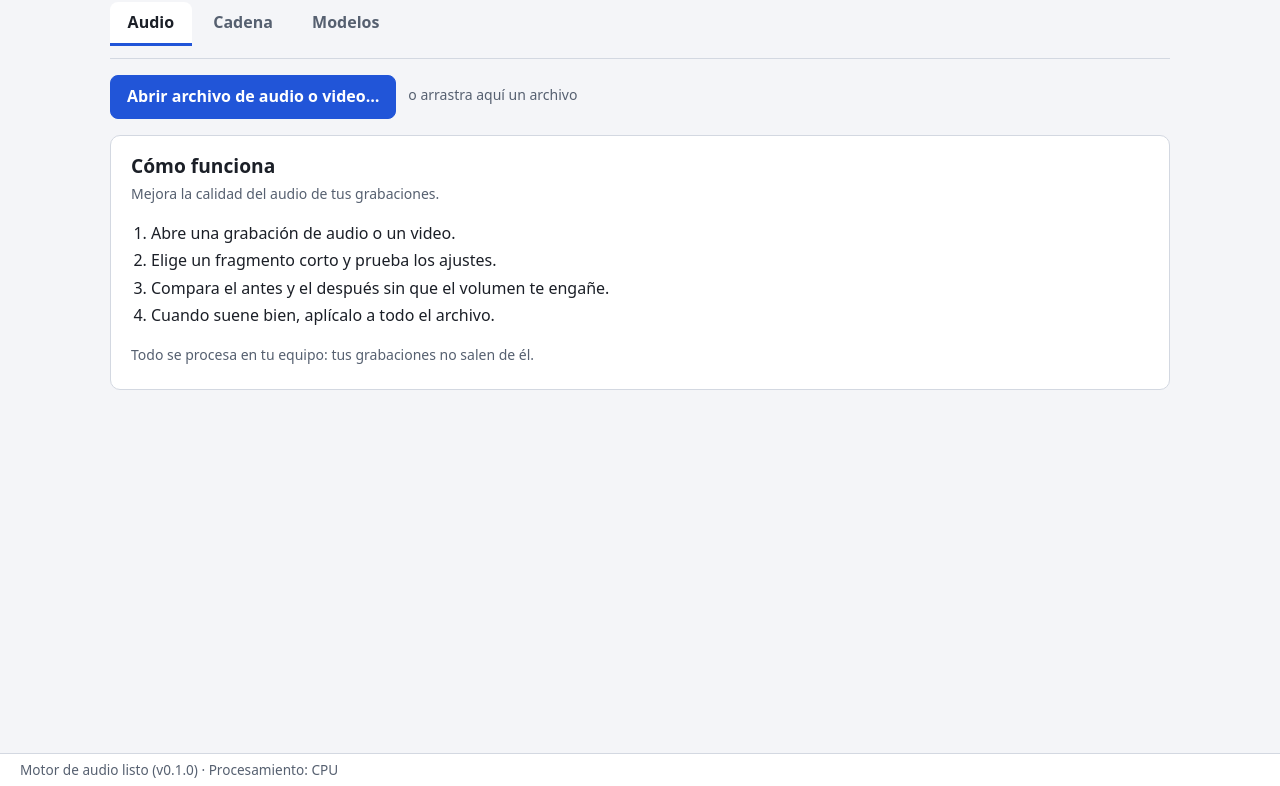
Test: App › un archivo soltado mientras hay un trabajo en curso se ignora
Click the button "Abrir archivo de audio o video…" at (253, 97), box [110, 75, 396, 119]
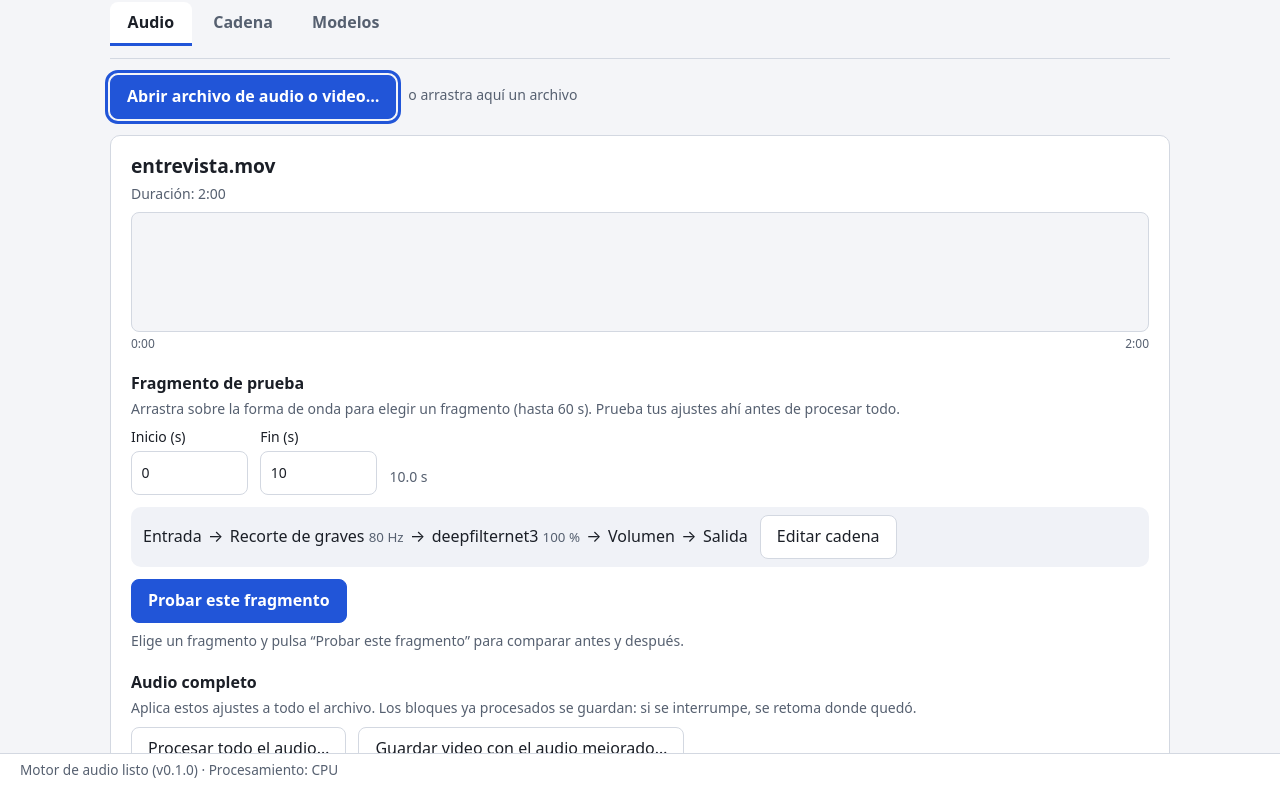
Expected: the heading "entrevista.mov" is shown, [131, 152, 276, 179]
Click the button "Procesar todo el audio…" at (239, 749), box [131, 727, 346, 771]
(page scrolled)
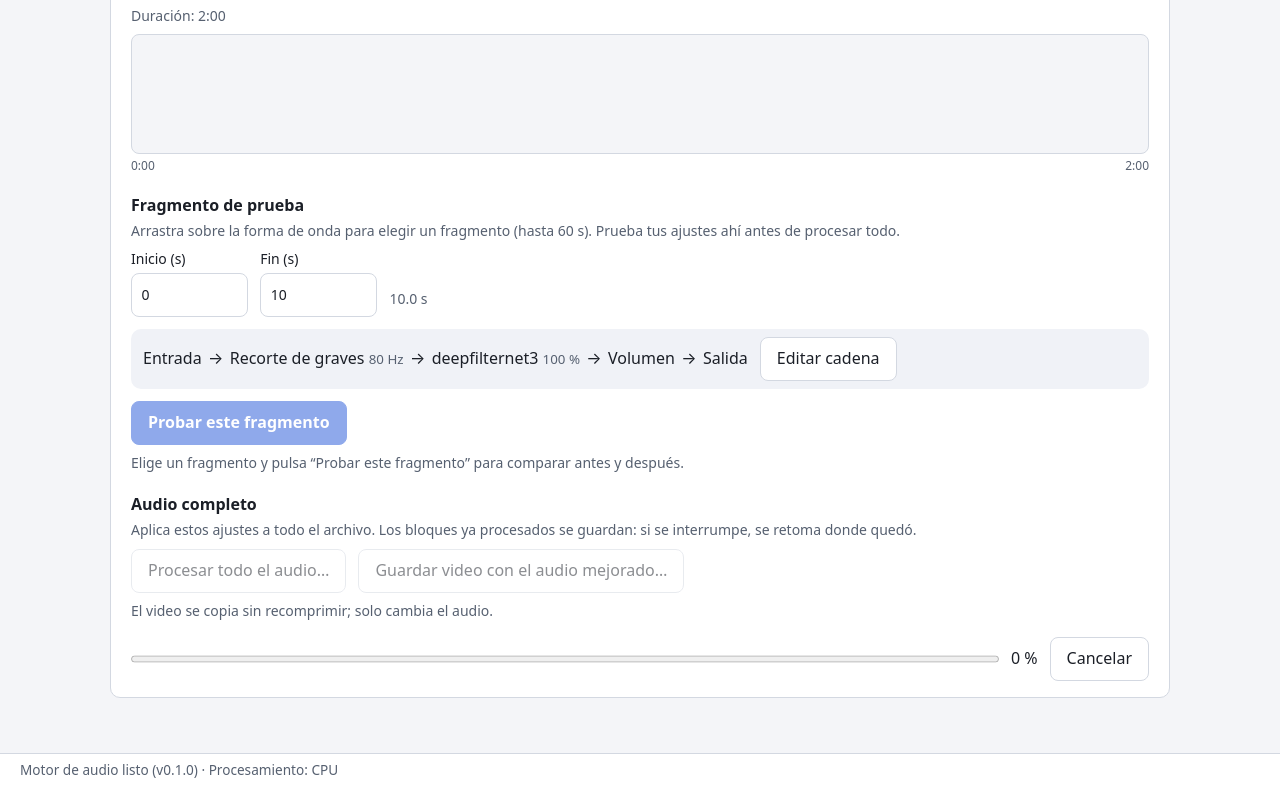
Expected: the button "Cancelar" is shown, [1050, 637, 1149, 681]
